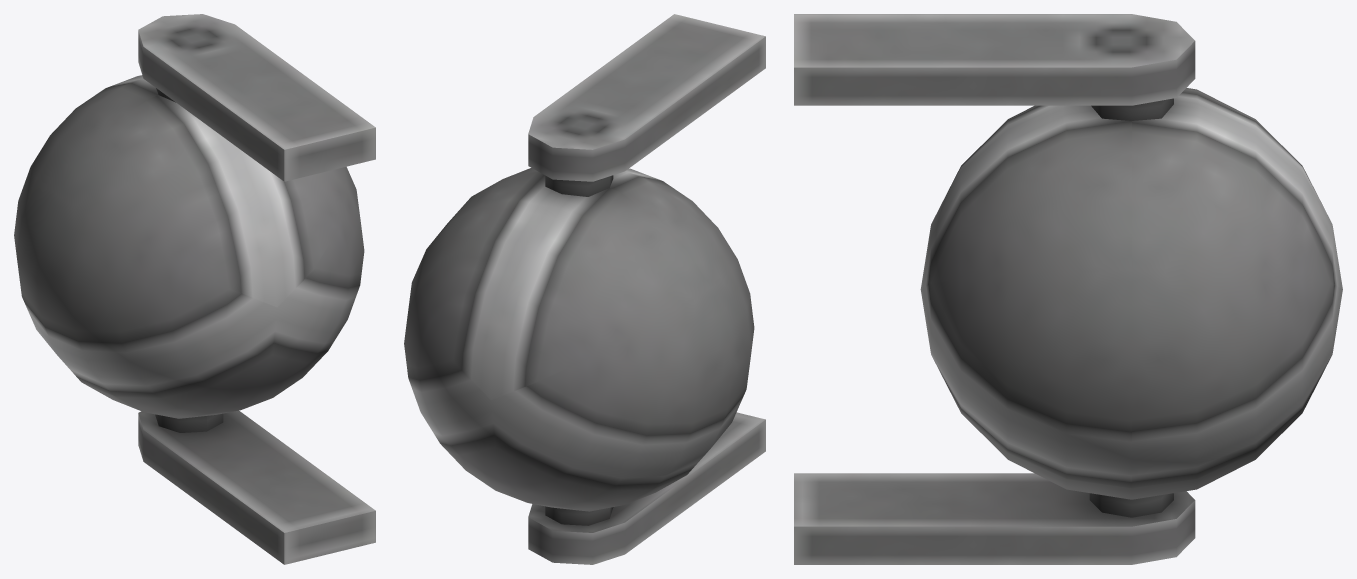
Rendered from 4mv_fuel_tank_srf_1_mount.obj.
The picture shows the model from 3 angles, left to right: view 1: azimuth 30°, elevation 25°; view 2: azimuth 150°, elevation 25°; view 3: azimuth 270°, elevation 25°; orthographic projection. The views are drawn at different scales.
Parts seen in each view (by area): view 1: mesh1; view 2: mesh1; view 3: mesh1.
Part boxes in pixels (<box>): mesh1: <box>14,14,375,564</box>; mesh1: <box>404,14,765,564</box>; mesh1: <box>794,14,1342,564</box>.
Bounding box in the file's own units: 0.125 × 0.1625 × 0.1625.
Materials: 1 (1 with a texture image).
